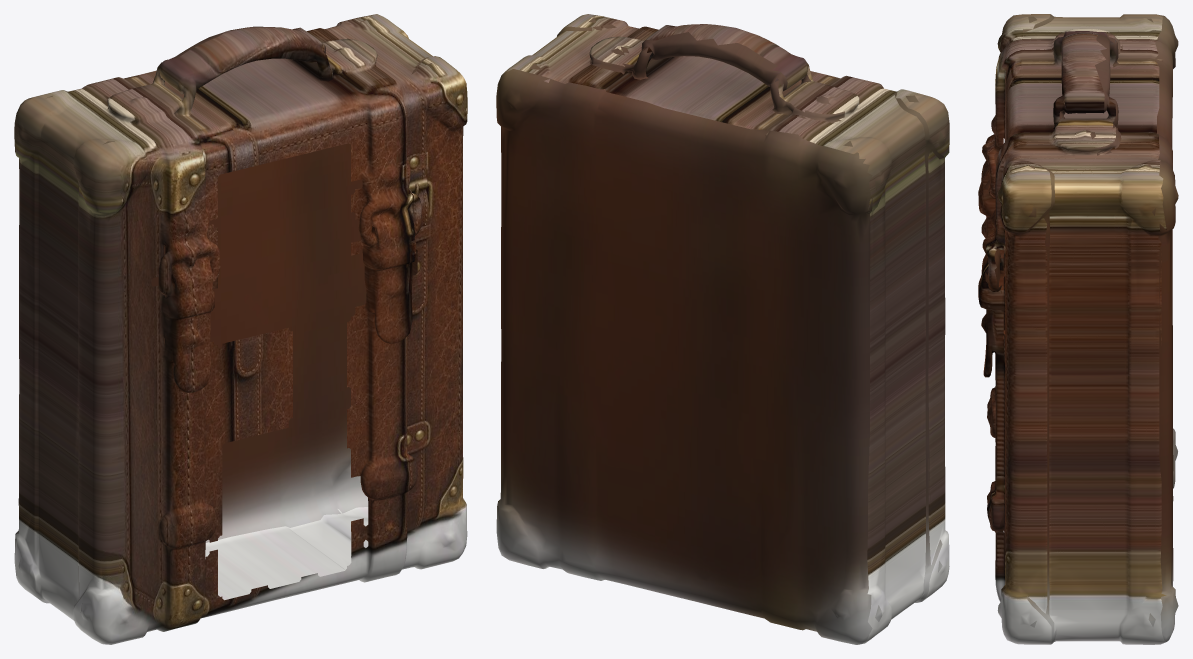
File: suitcase.glb
3 views of the same model, side by side, from view 1: azimuth 30°, elevation 25°; view 2: azimuth 150°, elevation 25°; view 3: azimuth 270°, elevation 25° (orthographic). The views are drawn at different scales.
Visible parts, largest first — view 1: suitcase; view 2: suitcase; view 3: suitcase.
Boxes of the visible parts, x1,y1,x2,y2 form: suitcase: (14, 14, 467, 644); suitcase: (496, 14, 949, 644); suitcase: (978, 14, 1178, 644).
Bounding box in the file's own units: 12 × 16.37 × 5.74.
1 material, 1 textured.
